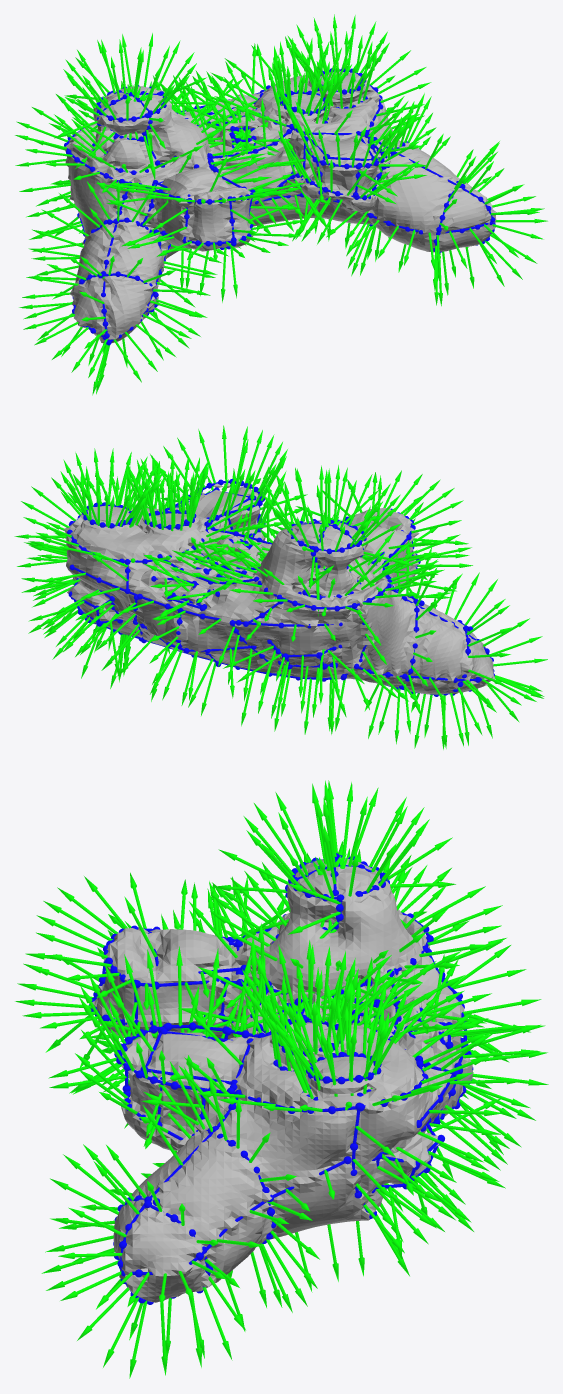
File: author2_gamepad.gltf
The picture shows the model from 3 angles, top to bottom: view 1: azimuth 30°, elevation 25°; view 2: azimuth 150°, elevation 25°; view 3: azimuth 270°, elevation 25°; orthographic projection. The views are drawn at different scales.
Bounding box in the file's own units: 1.01 × 0.5509 × 0.659.
